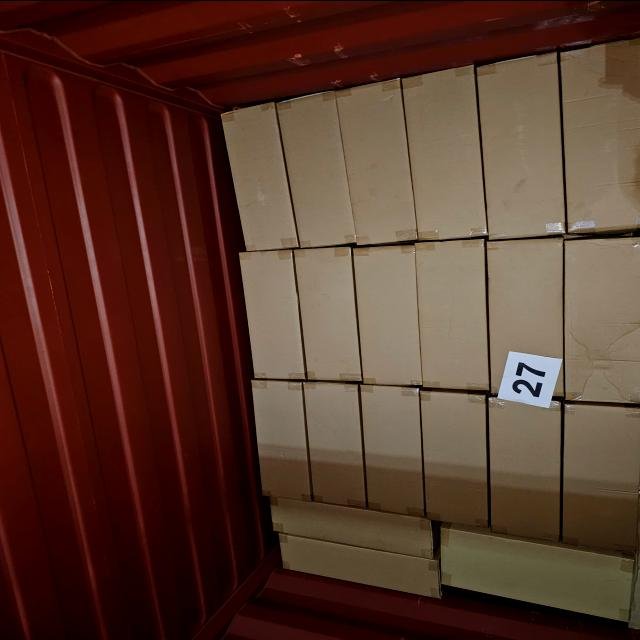Carton: (482, 58, 572, 240), (440, 537, 640, 616), (556, 42, 636, 239), (399, 72, 485, 245), (490, 236, 570, 400), (339, 79, 417, 243), (559, 236, 636, 402), (274, 90, 354, 244), (558, 404, 636, 554), (222, 103, 301, 250), (414, 242, 489, 392), (491, 398, 568, 538), (420, 390, 490, 526), (356, 245, 424, 384), (293, 248, 360, 380), (240, 252, 307, 380), (364, 387, 428, 513), (284, 539, 441, 590), (301, 384, 364, 506), (276, 499, 435, 545), (253, 378, 310, 496)
